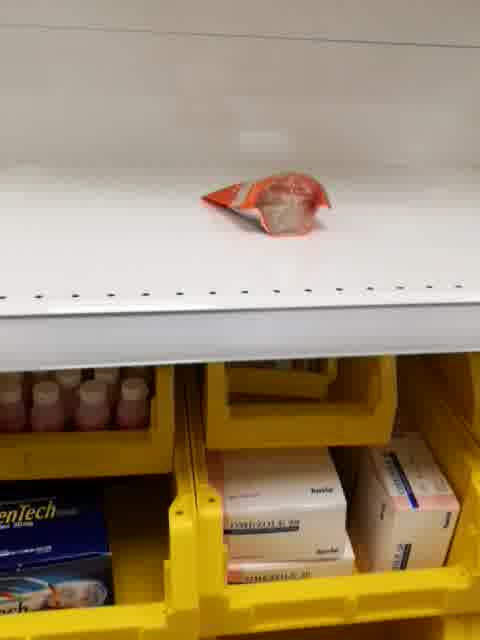whitechia: (199, 168, 331, 238)
